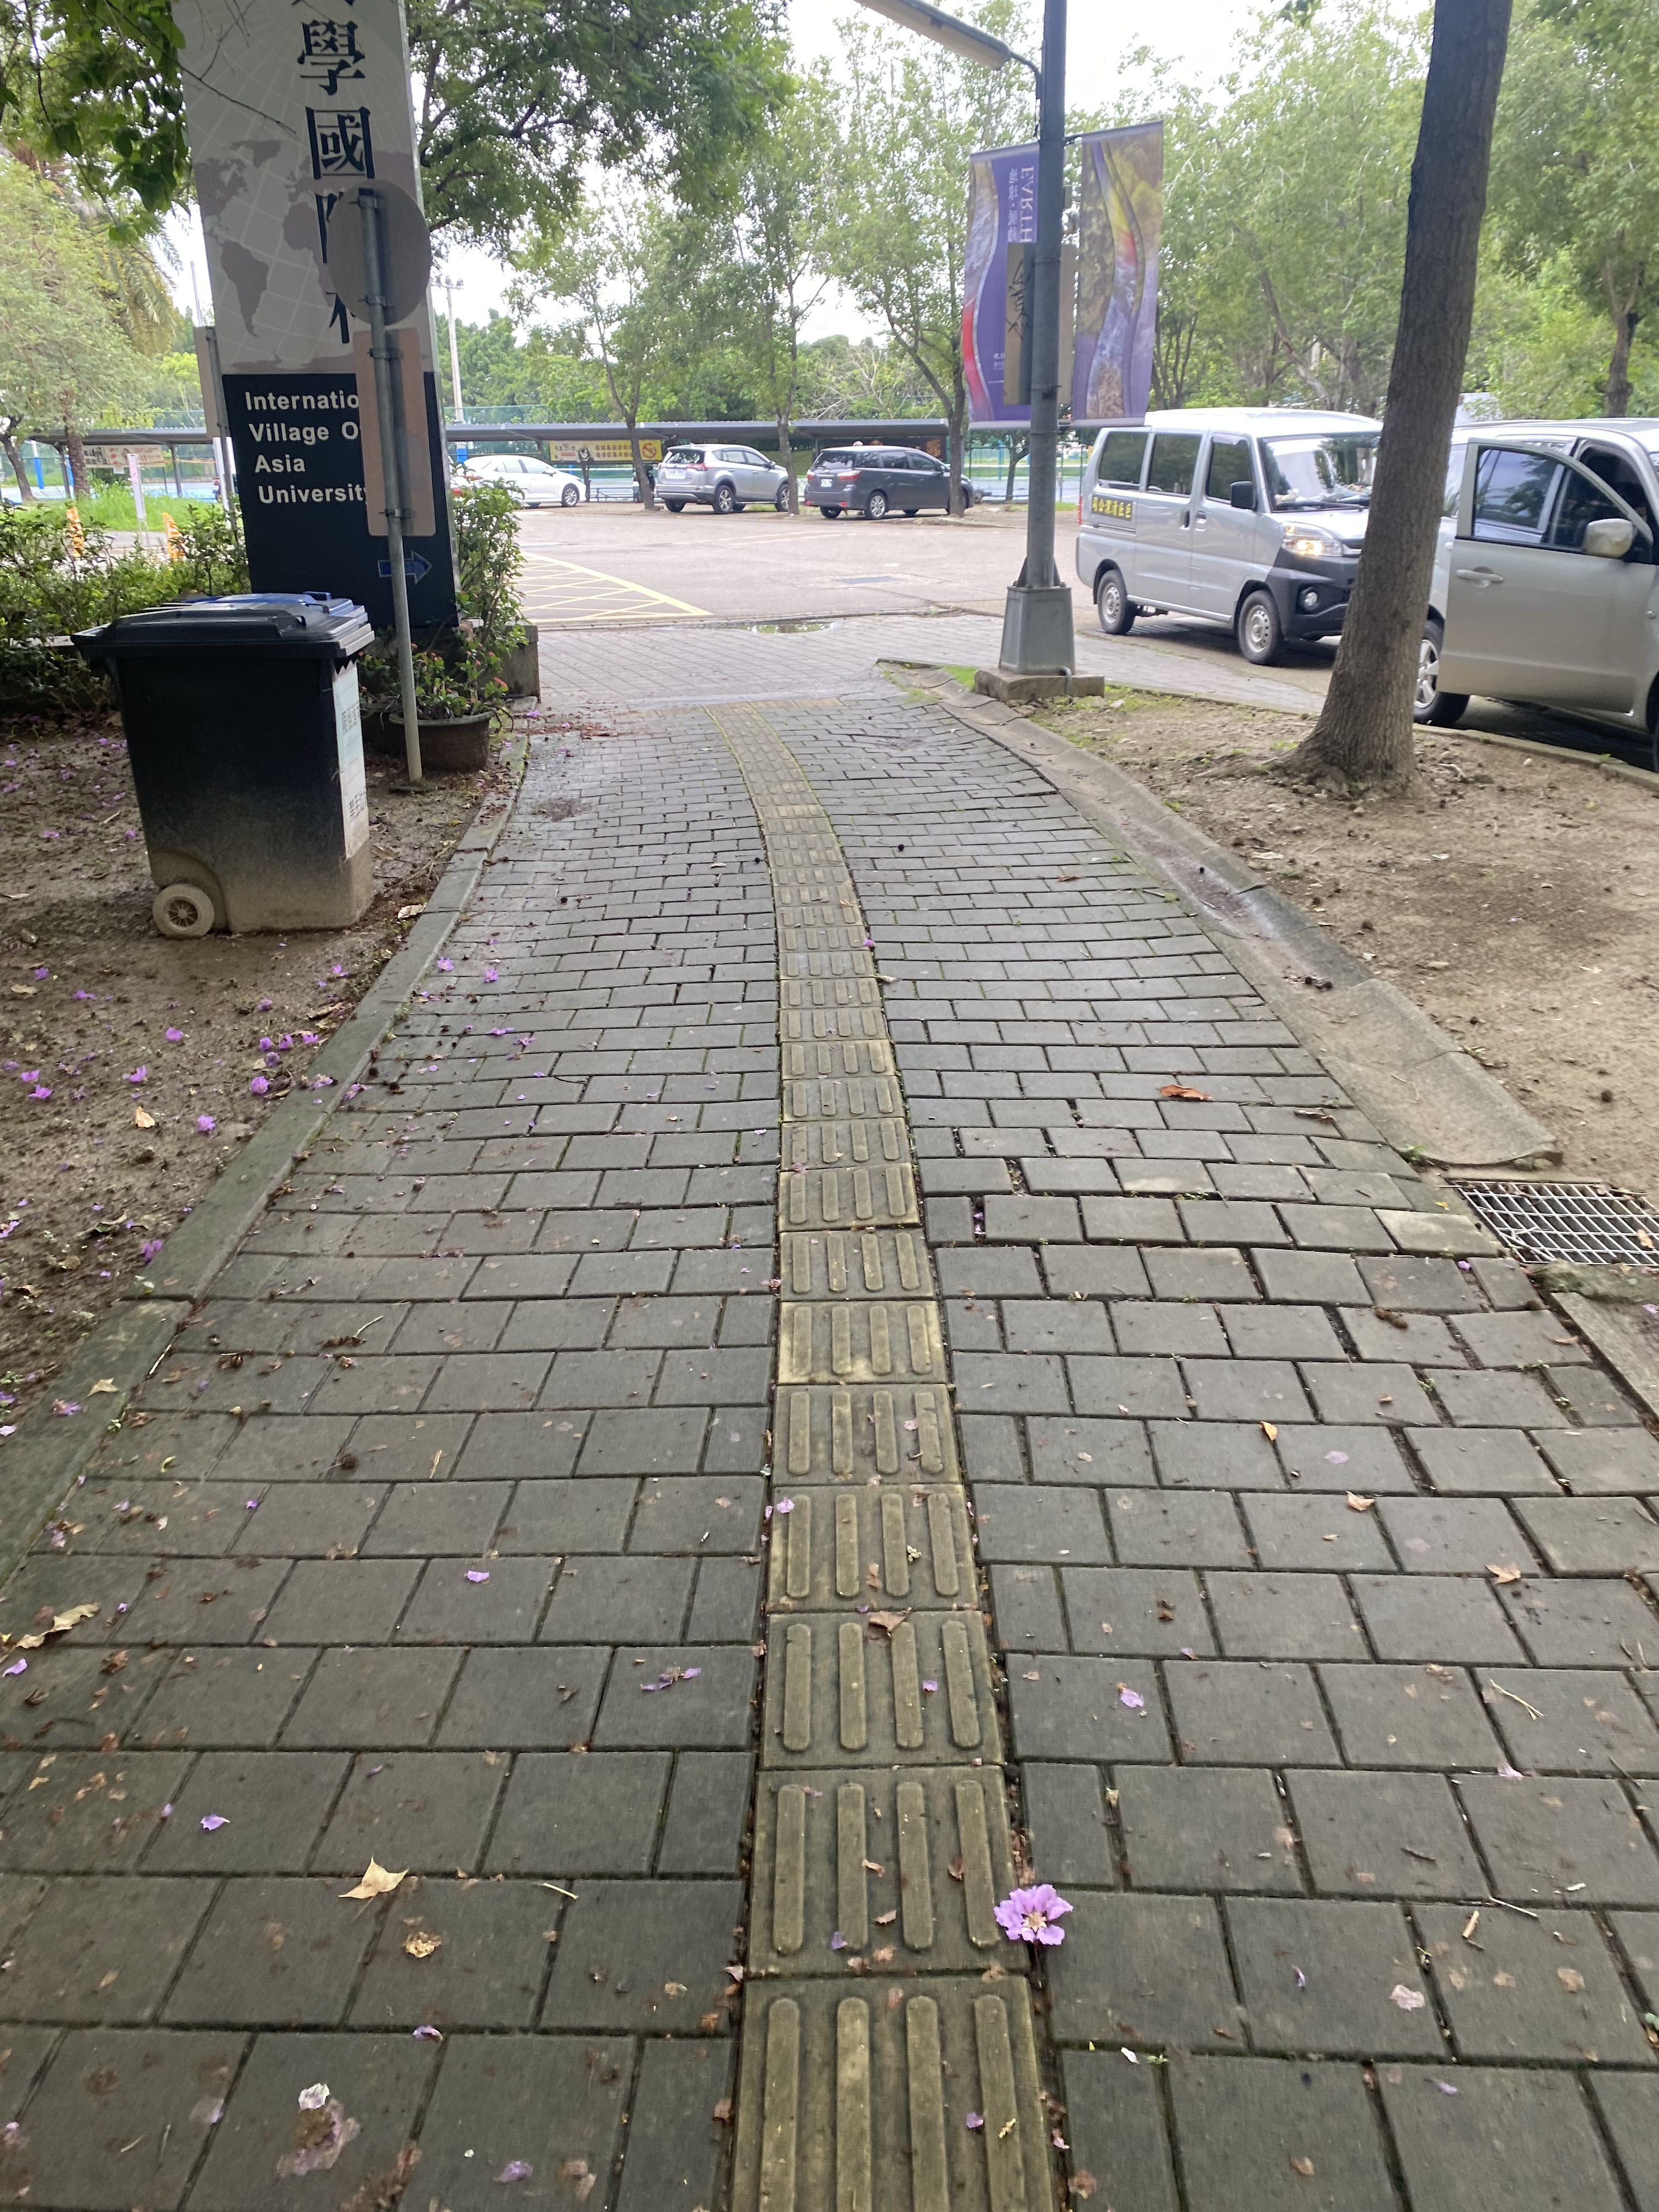sidewalk: (0, 597, 1657, 2212)
